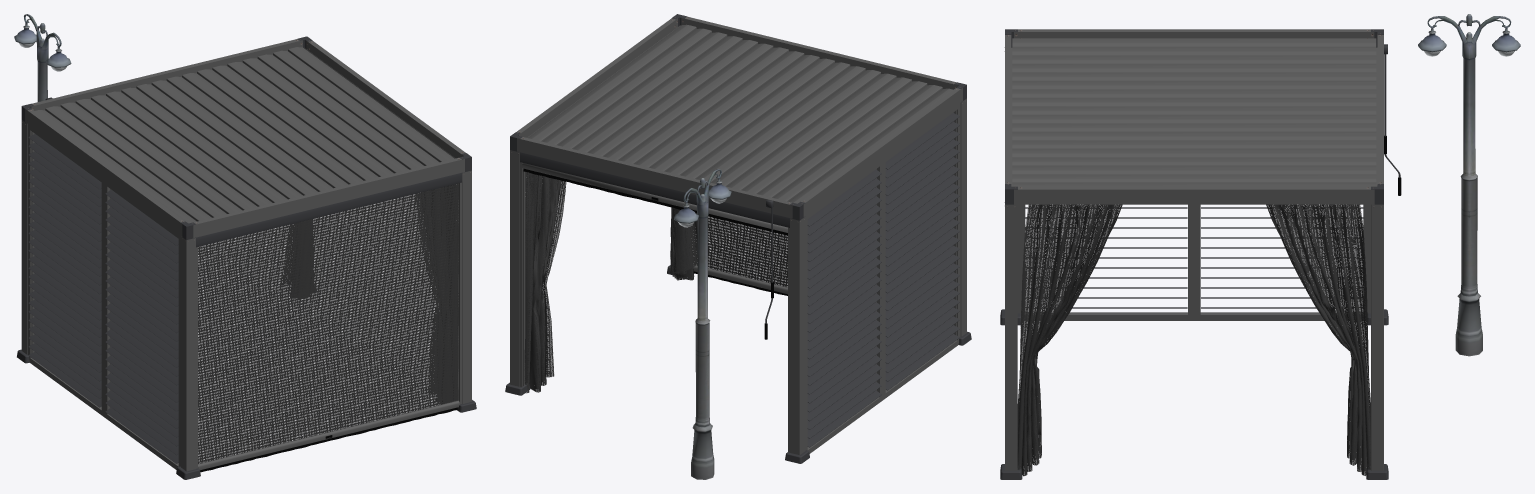
The model's file is rest.glb.
3 renders of one model, left to right at view 1: azimuth 30°, elevation 25°; view 2: azimuth 150°, elevation 25°; view 3: azimuth 270°, elevation 25°, orthographic. The views are drawn at different scales.
Visible parts, largest first — view 1: setka.001, potolok1, Cube.003, horiz balka, kolonna, rama, Plane.001, rollet, tyanulka.001, Cylinder, relsa, rezinka.001 (+2 smaller); view 2: potolok1, Cube.003, horiz balka, kolonna, Plane.001, rama, Cylinder, setka.001, rollet, relsa, tyanulka, rezinka (+3 smaller); view 3: potolok1, Plane.001, horiz balka, kolonna, Cylinder, rama, Cube.003, pluntus, ugolok.
Boxes of the visible parts, left/top/right/bottom form: setka.001: left=198, top=183, right=458, bottom=463; potolok1: left=35, top=47, right=455, bottom=223; Cube.003: left=28, top=134, right=178, bottom=463; horiz balka: left=25, top=39, right=465, bottom=237; kolonna: left=21, top=120, right=471, bottom=471; rama: left=27, top=124, right=180, bottom=469; Plane.001: left=282, top=184, right=457, bottom=403; rollet: left=196, top=172, right=462, bottom=247; tyanulka.001: left=198, top=400, right=459, bottom=470; Cylinder: left=14, top=14, right=71, bottom=101; relsa: left=196, top=182, right=461, bottom=468; rezinka.001: left=200, top=407, right=457, bottom=472; potolok1: left=527, top=25, right=953, bottom=203; Cube.003: left=807, top=112, right=959, bottom=447; horiz balka: left=516, top=16, right=962, bottom=218; kolonna: left=510, top=98, right=966, bottom=455; Plane.001: left=524, top=172, right=697, bottom=393; rama: left=805, top=103, right=960, bottom=453; Cylinder: left=674, top=169, right=731, bottom=479; setka.001: left=691, top=213, right=787, bottom=287; rollet: left=520, top=152, right=789, bottom=227; relsa: left=520, top=162, right=789, bottom=452; tyanulka: left=522, top=163, right=787, bottom=232; rezinka: left=523, top=168, right=787, bottom=235; potolok1: left=1012, top=38, right=1376, bottom=186; Plane.001: left=1017, top=204, right=1370, bottom=476; horiz balka: left=1005, top=29, right=1383, bottom=204; kolonna: left=1005, top=47, right=1383, bottom=470; Cylinder: left=1418, top=14, right=1520, bottom=356; rama: left=1017, top=204, right=1370, bottom=320; Cube.003: left=1024, top=207, right=1364, bottom=308; pluntus: left=1000, top=309, right=1388, bottom=479; ugolok: left=1005, top=29, right=1383, bottom=204.
Bounding box in the file's own units: 3.05 × 2.94 × 4.09.
Materials: 7 (3 with a texture image).
